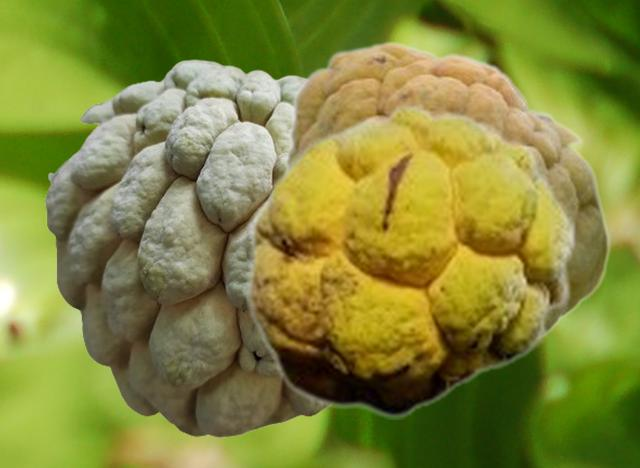atis: (44, 59, 326, 436), (243, 102, 576, 418), (279, 40, 609, 337)
